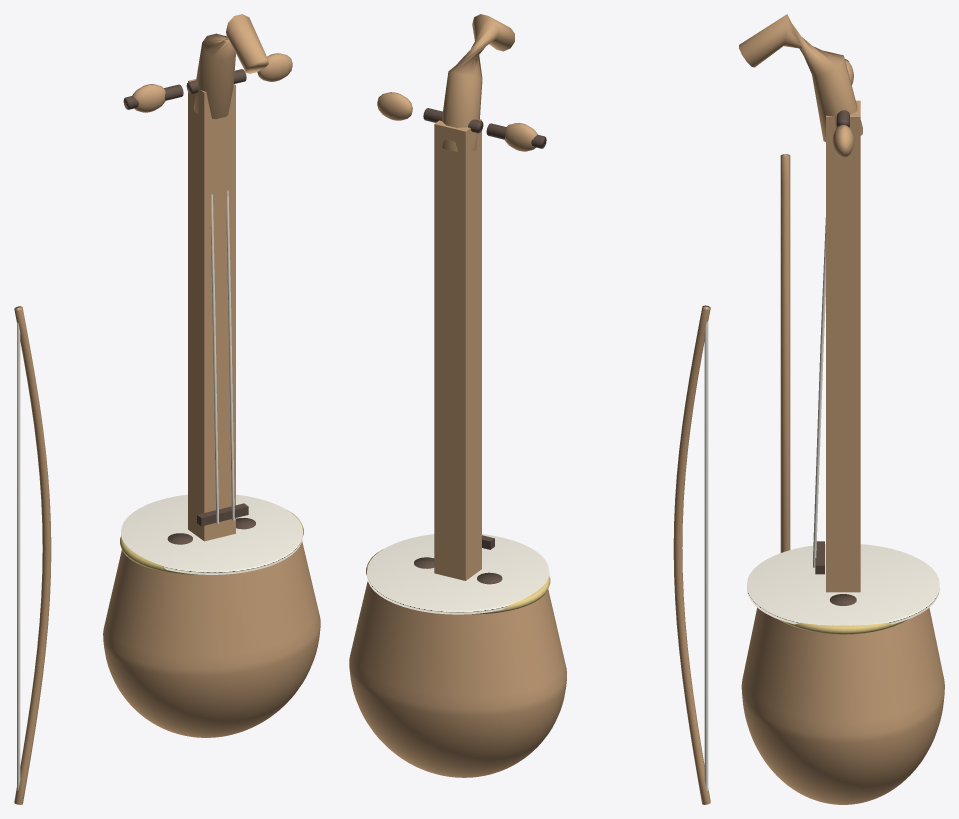
The model's file is kobyz.glb.
The picture shows the model from 3 angles, left to right: view 1: azimuth 30°, elevation 25°; view 2: azimuth 150°, elevation 25°; view 3: azimuth 270°, elevation 25°; orthographic projection. The views are drawn at different scales.
Visible parts, largest first — view 1: body, neck, lid, bow, scroll, string (×2), hair, pegknob (×2), bridge; view 2: body, neck, lid, bow, scroll, hair, pegknob (×2); view 3: body, neck, lid, scroll, bow, string, rim, pegknob.
Boxes of the visible parts, x1,y1,x2,y2 form: body: (103, 541, 320, 737); neck: (188, 79, 235, 541); lid: (121, 494, 302, 574); bow: (14, 306, 51, 804); scroll: (193, 14, 268, 119); string (×2): (210, 190, 234, 524); hair: (17, 308, 20, 790); pegknob (×2): (132, 53, 292, 112); bridge: (197, 503, 248, 526); body: (349, 581, 566, 777); neck: (434, 119, 481, 580); lid: (367, 534, 549, 614); bow: (673, 305, 710, 804); scroll: (442, 14, 514, 151); hair: (704, 307, 708, 790); pegknob (×2): (377, 92, 537, 151); body: (741, 607, 944, 804); neck: (826, 100, 860, 592); lid: (747, 544, 939, 625); scroll: (739, 14, 862, 141); bow: (780, 154, 790, 552); string: (813, 225, 825, 567); rim: (779, 619, 907, 634); pegknob: (832, 125, 853, 157).
Size of the model in its own units: 2.04 by 4.45 by 1.07.
